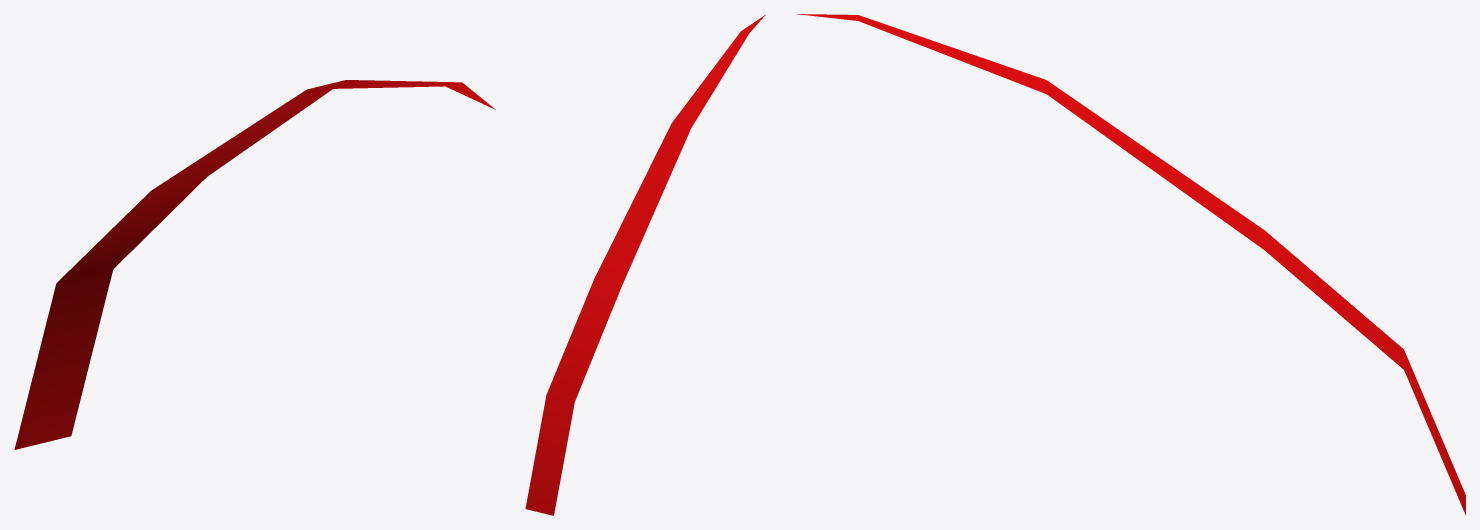
File: GrassBladeBentMore.glb
The picture shows the model from 3 angles, left to right: view 1: azimuth 30°, elevation 25°; view 2: azimuth 150°, elevation 25°; view 3: azimuth 270°, elevation 25°; orthographic projection. The views are drawn at different scales.
Parts seen in each view (by area): view 1: GrassBladeMesh; view 2: GrassBladeMesh; view 3: GrassBladeMesh.
Boxes of the visible parts, x1=… form: GrassBladeMesh: x1=14, y1=80, x2=495, y2=449; GrassBladeMesh: x1=525, y1=14, x2=765, y2=515; GrassBladeMesh: x1=796, y1=14, x2=1465, y2=515.
Size of the model in its own units: 0.1127 by 1.26 by 1.56.
